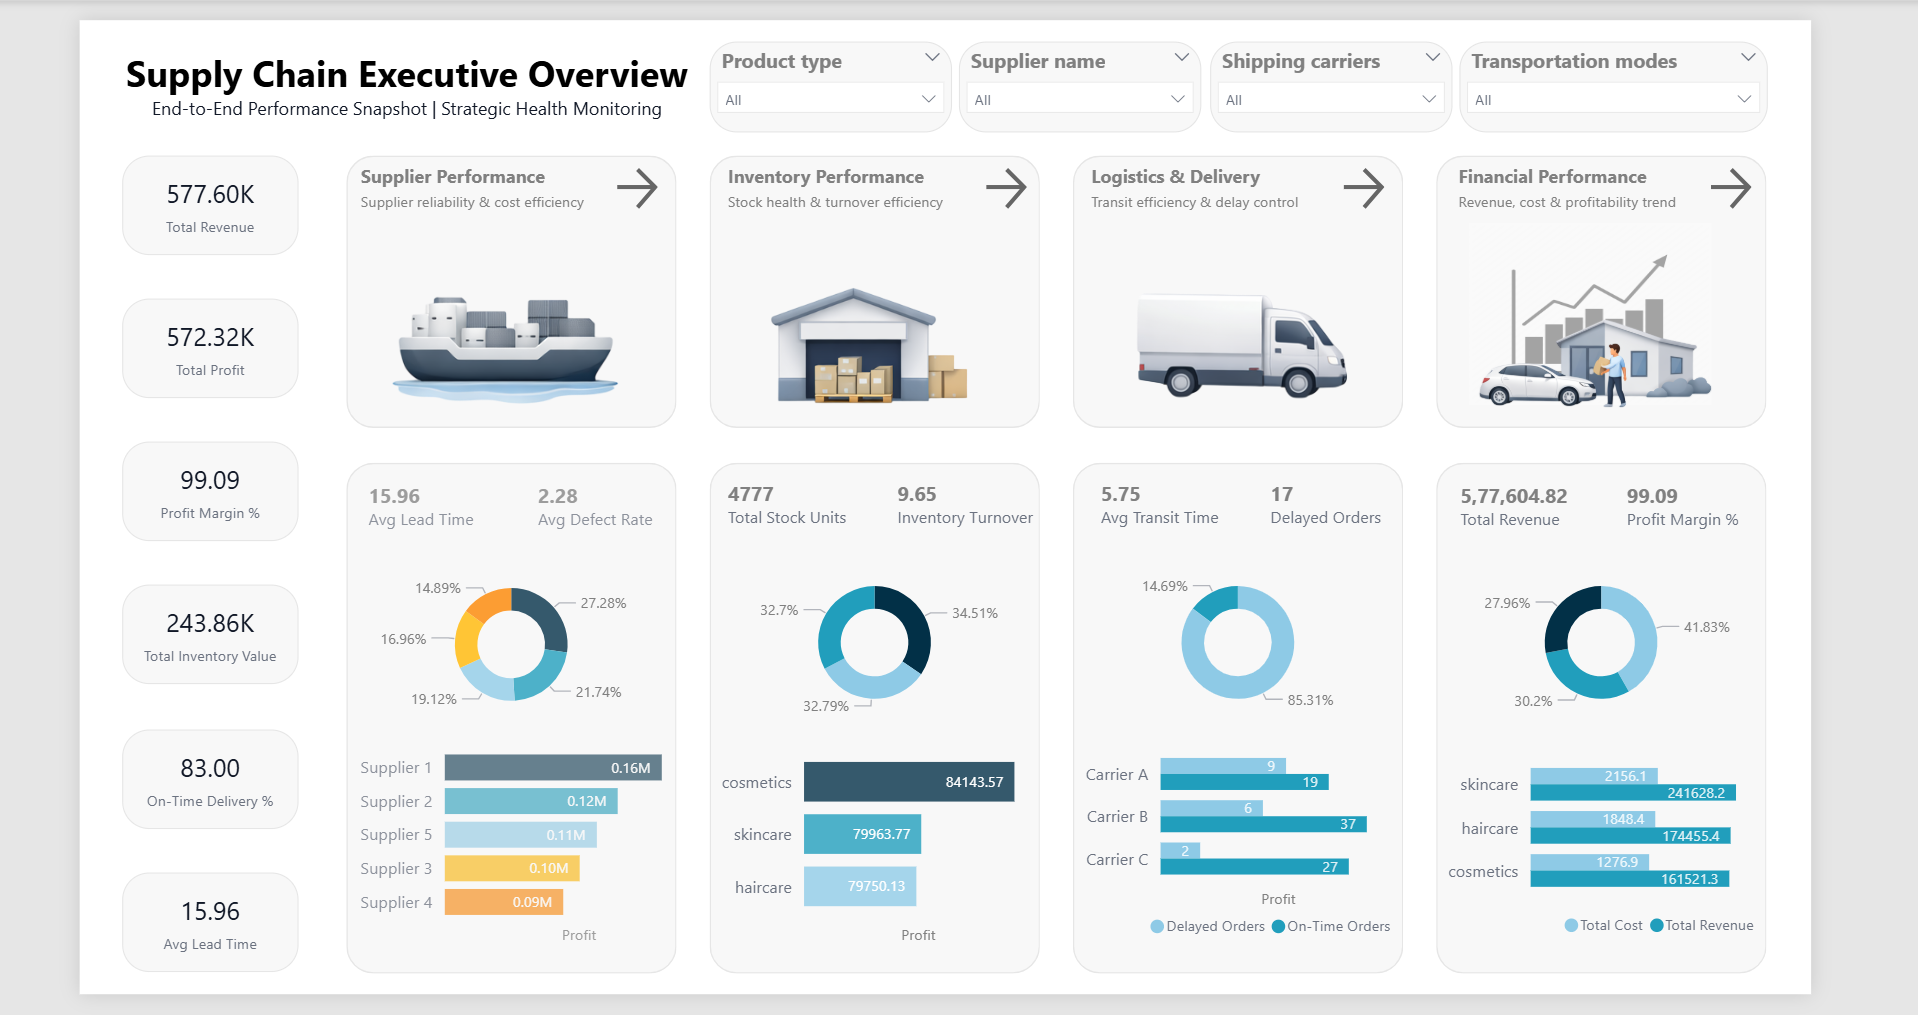

The dashboard page shown, as its layout file describes it:
{"tool":"powerbi","page":{"name":"overview","canvas":[1280,720],"ordinal":0},"visuals":[{"type":"textbox","box":[10,16,464,80],"z":0},{"type":"card","fields":{"Values":["kpi and measures.Total Revenue"]},"box":[32,99.9,130.2,73.4],"z":1000},{"type":"card","fields":{"Values":["kpi and measures.Total Profit"]},"box":[32,205.8,130.2,73.4],"z":2000},{"type":"card","fields":{"Values":["kpi and measures.Profit Margin %"]},"box":[32,311.8,130.2,73.4],"z":3000},{"type":"card","fields":{"Values":["kpi and measures.Total Inventory Value"]},"box":[32,417.7,130.2,73.4],"z":4000},{"type":"card","fields":{"Values":["kpi and measures.On-Time Delivery %"]},"box":[32,523.6,130.2,73.4],"z":5000},{"type":"card","fields":{"Values":["kpi and measures.Avg Lead Time"]},"box":[32,629.5,130.2,73.4],"z":6000},{"type":"shape","box":[196.8,326.4,244.2,377.6],"z":7000,"group":"g1"},{"type":"shape","box":[465.5,326.4,244.2,377.6],"z":7000},{"type":"shape","box":[734.1,326.4,244.2,377.6],"z":8000},{"type":"shape","box":[1002.8,326.4,244.2,377.6],"z":9000},{"type":"shape","box":[196.8,99.9,244.2,201.4],"z":10000},{"type":"shape","box":[465.5,99.9,244.2,201.4],"z":11000},{"type":"shape","box":[734.1,99.9,244.2,201.4],"z":12000},{"type":"shape","box":[1002.8,99.9,244.2,201.4],"z":13000},{"type":"image","box":[1027.2,150.2,179.1,134.2],"z":14000},{"type":"image","box":[213.1,167,195.4,134.2],"z":15000},{"type":"image","box":[489.9,167,195.4,134.2],"z":16000},{"type":"image","box":[766.7,167,179.1,134.2],"z":17000},{"type":"image","box":[1027.2,167,195.4,167.8],"z":18000},{"type":"textbox","box":[203,102,195.4,58.7],"z":19000},{"type":"textbox","box":[473.6,102,195.4,58.7],"z":20000},{"type":"textbox","box":[742.3,102,195.4,50.3],"z":21000},{"type":"textbox","box":[1015,102,195.4,58.7],"z":22000},{"type":"multiRowCard","fields":{"Values":["kpi and measures.Avg Lead Time","kpi and measures.Avg Defect Rate"]},"box":[209.1,335.9,260.5,100.7],"z":23000},{"type":"multiRowCard","fields":{"Values":["kpi and measures.Total Stock Units","kpi and measures.Inventory Turnover"]},"box":[473.6,334.8,260.5,67.1],"z":24000},{"type":"multiRowCard","fields":{"Values":["kpi and measures.Avg Transit Time","kpi and measures.Delayed Orders"]},"box":[750.4,334.8,260.5,58.7],"z":25000},{"type":"multiRowCard","fields":{"Values":["kpi and measures.Total Revenue","kpi and measures.Profit Margin %"]},"box":[1016,336,256,80],"z":26000},{"type":"clusteredBarChart","fields":{"Category":["supply_chain_data.Supplier_name"],"Y":["Sum(supply_chain_data.profit)"]},"box":[196.8,519.4,276.8,167.8],"z":27000},{"type":"donutChart","title":"Profit Contribution Share","fields":{"Category":["supply_chain_data.Supplier_name"],"Y":["Sum(supply_chain_data.profit)"]},"box":[196.8,401.9,244.2,117.5],"z":28000,"group":"g1"},{"type":"donutChart","title":"Profit Contribution Share","fields":{"Category":["supply_chain_data.Product_type"],"Y":["Sum(supply_chain_data.inventory_value)"]},"box":[465.5,402,244.2,117.5],"z":28000},{"type":"clusteredBarChart","fields":{"Category":["supply_chain_data.Product_type"],"Y":["Sum(supply_chain_data.inventory_value)"]},"box":[465.5,519.4,244.2,167.8],"z":29000},{"type":"donutChart","title":"Profit Contribution Share","fields":{"Category":["supply_chain_data.delivery_status"],"Y":["Sum(supply_chain_data.Order_quantities)"]},"box":[734.1,402,244.2,117.5],"z":30000},{"type":"clusteredBarChart","fields":{"Category":["supply_chain_data.Shipping_carriers"],"Y":["kpi and measures.Delayed Orders","kpi and measures.On-Time Orders"]},"box":[734.1,519.4,244.2,167.8],"z":31000},{"type":"donutChart","title":"Profit Contribution Share","fields":{"Category":["supply_chain_data.Product_type"],"Y":["kpi and measures.Total Revenue"]},"box":[1002.8,402,244.2,117.5],"z":32000},{"type":"clusteredBarChart","fields":{"Y":["kpi and measures.Total Cost","kpi and measures.Total Revenue"],"Category":["supply_chain_data.Product_type"]},"box":[1002.8,527.8,244.2,159.4],"z":33000},{"type":"slicer","fields":{"Values":["supply_chain_data.Product_type"]},"box":[465.5,16,179.1,67.1],"z":34000},{"type":"slicer","fields":{"Values":["supply_chain_data.Supplier_name"]},"box":[650.3,16,179.1,67.1],"z":35000},{"type":"slicer","fields":{"Values":["supply_chain_data.Shipping_carriers"]},"box":[835.2,16,179.1,67.1],"z":36000},{"type":"slicer","fields":{"Values":["supply_chain_data.Transportation_modes"]},"box":[1020.1,16,227.9,67.1],"z":37000},{"type":"actionButton","box":[392,104,40,40],"z":38000},{"type":"actionButton","box":[664,104,40,40],"z":39000},{"type":"actionButton","box":[928,104,40,40],"z":40000},{"type":"actionButton","box":[1200,104,40,40],"z":41000},{"type":"group","id":"g1","title":"Group 1","box":[196.8,326.4,244.2,377.6],"z":42000}]}

Visuals, with their boxes on the page's 1280x720 design canvas (x1, y1, x2, y2). These are canvas units, not pixel positions in the 1918x1015 screenshot, which may show the page scaled, cropped or inside an application window:
textbox: left=10, top=16, right=474, bottom=96
card - kpi and measures.Total Revenue: left=32, top=100, right=162, bottom=173
card - kpi and measures.Total Profit: left=32, top=206, right=162, bottom=279
card - kpi and measures.Profit Margin %: left=32, top=312, right=162, bottom=385
card - kpi and measures.Total Inventory Value: left=32, top=418, right=162, bottom=491
card - kpi and measures.On-Time Delivery %: left=32, top=524, right=162, bottom=597
card - kpi and measures.Avg Lead Time: left=32, top=630, right=162, bottom=703
shape: left=197, top=326, right=441, bottom=704
shape: left=466, top=326, right=710, bottom=704
shape: left=734, top=326, right=978, bottom=704
shape: left=1003, top=326, right=1247, bottom=704
shape: left=197, top=100, right=441, bottom=301
shape: left=466, top=100, right=710, bottom=301
shape: left=734, top=100, right=978, bottom=301
shape: left=1003, top=100, right=1247, bottom=301
image: left=1027, top=150, right=1206, bottom=284
image: left=213, top=167, right=408, bottom=301
image: left=490, top=167, right=685, bottom=301
image: left=767, top=167, right=946, bottom=301
image: left=1027, top=167, right=1223, bottom=335
textbox: left=203, top=102, right=398, bottom=161
textbox: left=474, top=102, right=669, bottom=161
textbox: left=742, top=102, right=938, bottom=152
textbox: left=1015, top=102, right=1210, bottom=161
multiRowCard - kpi and measures.Avg Lead Time x kpi and measures.Avg Defect Rate: left=209, top=336, right=470, bottom=437
multiRowCard - kpi and measures.Total Stock Units x kpi and measures.Inventory Turnover: left=474, top=335, right=734, bottom=402
multiRowCard - kpi and measures.Avg Transit Time x kpi and measures.Delayed Orders: left=750, top=335, right=1011, bottom=394
multiRowCard - kpi and measures.Total Revenue x kpi and measures.Profit Margin %: left=1016, top=336, right=1272, bottom=416
clusteredBarChart - supply_chain_data.Supplier_name x Sum(supply_chain_data.profit): left=197, top=519, right=474, bottom=687
"Profit Contribution Share" donutChart: left=197, top=402, right=441, bottom=519
"Profit Contribution Share" donutChart: left=466, top=402, right=710, bottom=520
clusteredBarChart - supply_chain_data.Product_type x Sum(supply_chain_data.inventory_value): left=466, top=519, right=710, bottom=687
"Profit Contribution Share" donutChart: left=734, top=402, right=978, bottom=520
clusteredBarChart - supply_chain_data.Shipping_carriers x kpi and measures.Delayed Orders: left=734, top=519, right=978, bottom=687
"Profit Contribution Share" donutChart: left=1003, top=402, right=1247, bottom=520
clusteredBarChart - kpi and measures.Total Cost x kpi and measures.Total Revenue: left=1003, top=528, right=1247, bottom=687
slicer - supply_chain_data.Product_type: left=466, top=16, right=645, bottom=83
slicer - supply_chain_data.Supplier_name: left=650, top=16, right=829, bottom=83
slicer - supply_chain_data.Shipping_carriers: left=835, top=16, right=1014, bottom=83
slicer - supply_chain_data.Transportation_modes: left=1020, top=16, right=1248, bottom=83
actionButton: left=392, top=104, right=432, bottom=144
actionButton: left=664, top=104, right=704, bottom=144
actionButton: left=928, top=104, right=968, bottom=144
actionButton: left=1200, top=104, right=1240, bottom=144
"Group 1" group: left=197, top=326, right=441, bottom=704
